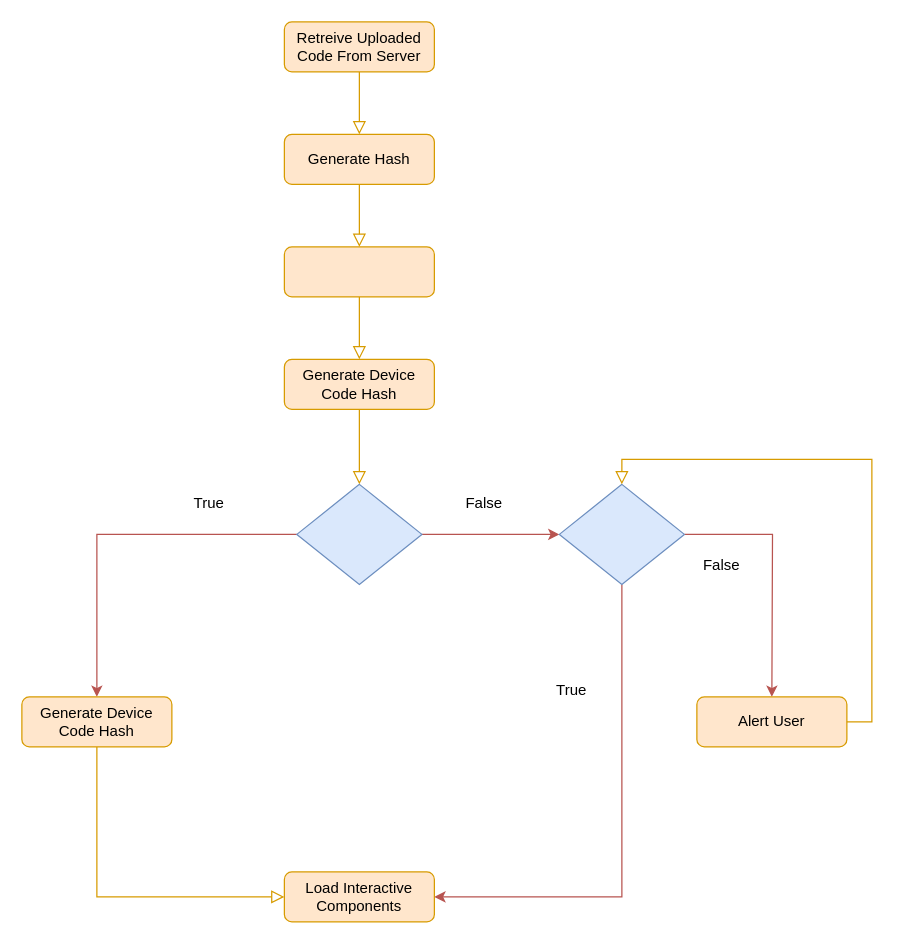
Image size: 906x944. Some labels were removed from this diagram. The shapes that lost their labels are listed below. From the top down, each one's centre as x and y in pixels, then its label:
point (358, 271): Retrieve Device Code
point (359, 533): compareHash()
point (621, 533): Upload Downloaded Code
